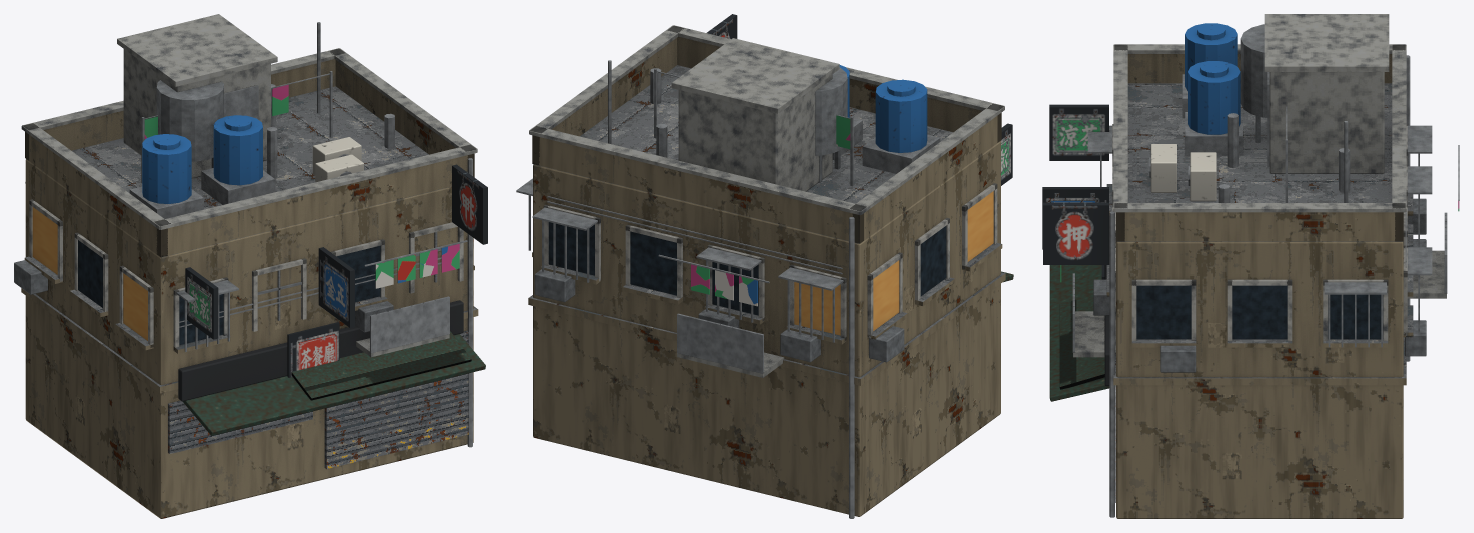
The model's file is city_tea_house_lower.glb.
The picture shows the model from 3 angles, left to right: view 1: azimuth 30°, elevation 25°; view 2: azimuth 150°, elevation 25°; view 3: azimuth 270°, elevation 25°; orthographic projection. The views are drawn at different scales.
Visible parts, largest first — view 1: city_tea_house_lower; view 2: city_tea_house_lower; view 3: city_tea_house_lower.
Boxes of the visible parts, bbox=[...] form: city_tea_house_lower: bbox=[14, 14, 487, 518]; city_tea_house_lower: bbox=[516, 14, 1013, 518]; city_tea_house_lower: bbox=[1042, 14, 1459, 518].
Size of the model in its own units: 9.07 by 8.92 by 8.7.
Materials: 19 (19 with a texture image).
